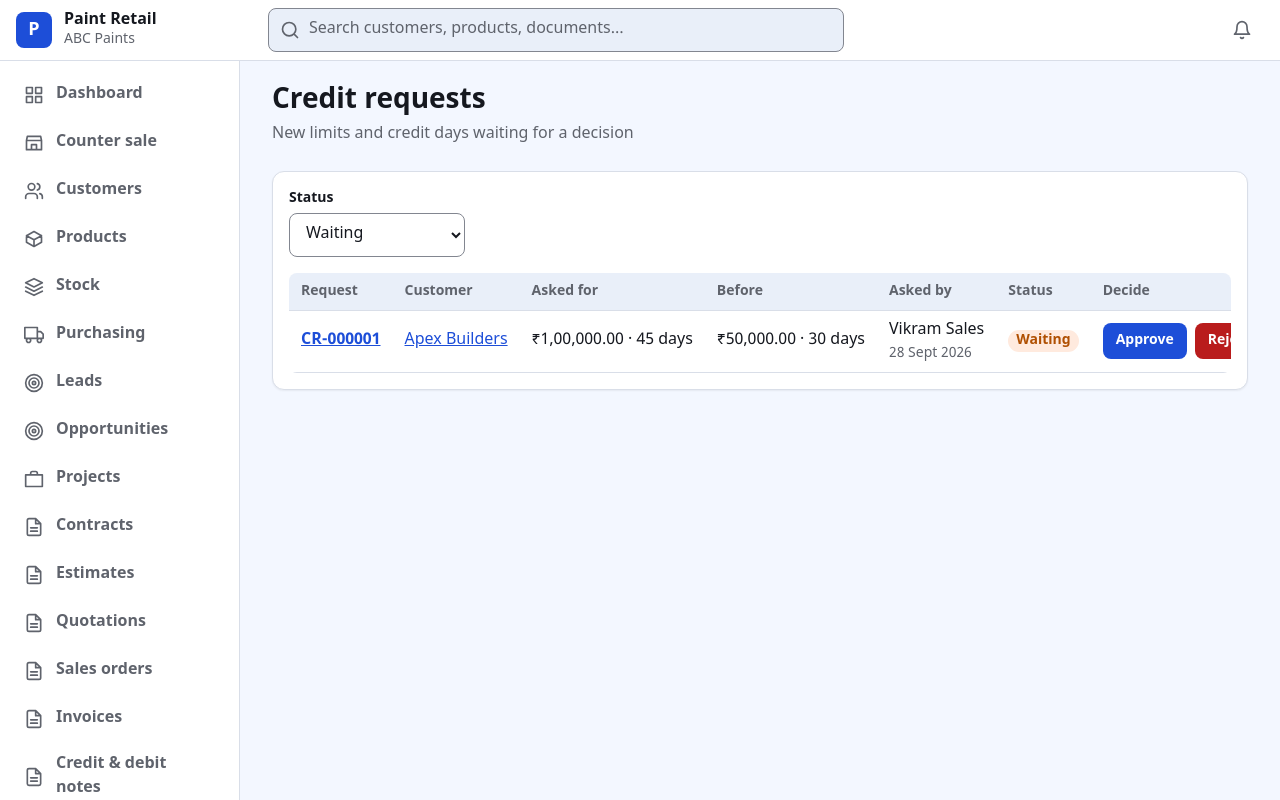
CreditRequestsPage › lists waiting requests for approvers to decide, and other statuses on request
Click the button with aria-label "Approve CR-000001" at (1145,341), box left=1103, top=323, right=1187, bottom=359
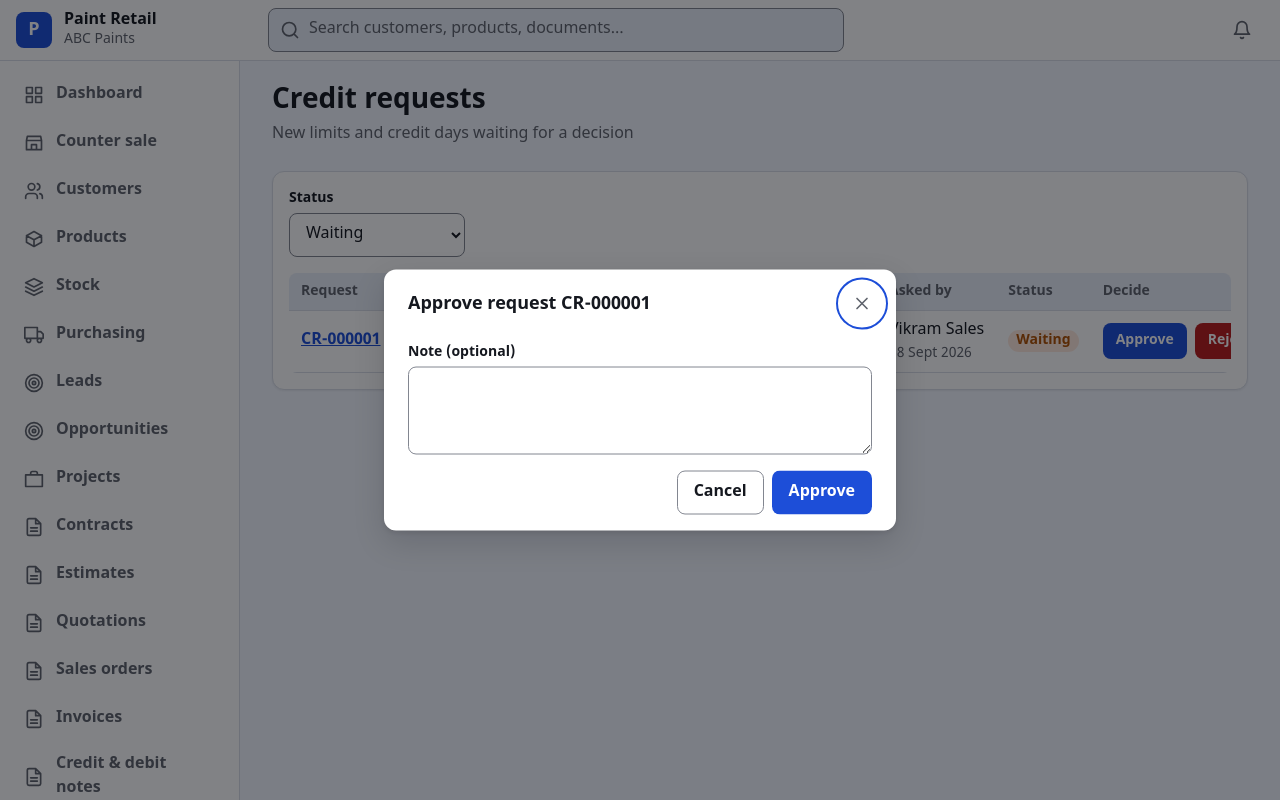
Click the button "Approve" at (822,492), box left=772, top=470, right=872, bottom=514
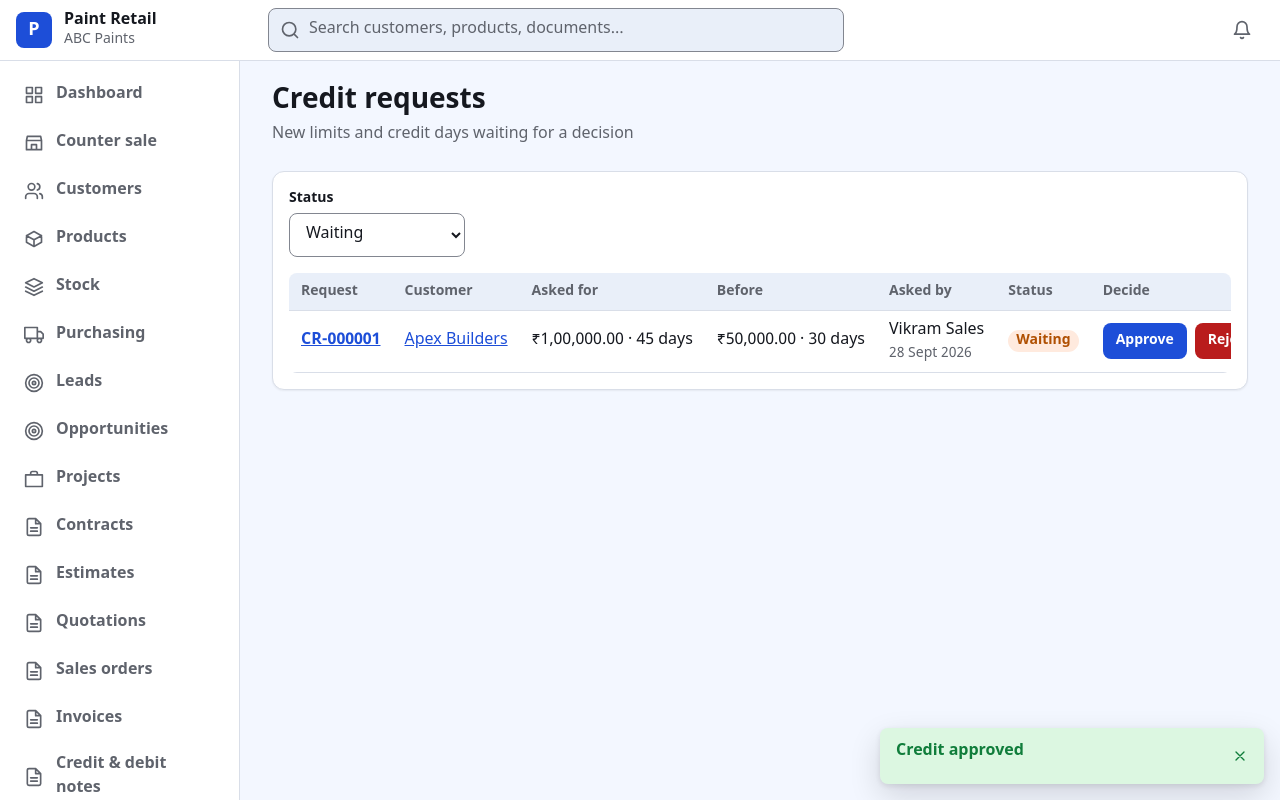
Result: the text "Credit approved" is shown at left=896, top=741, right=1024, bottom=762
Select "All requests" in the dropdown labelled "Status" at (377,235), box left=289, top=213, right=465, bottom=257
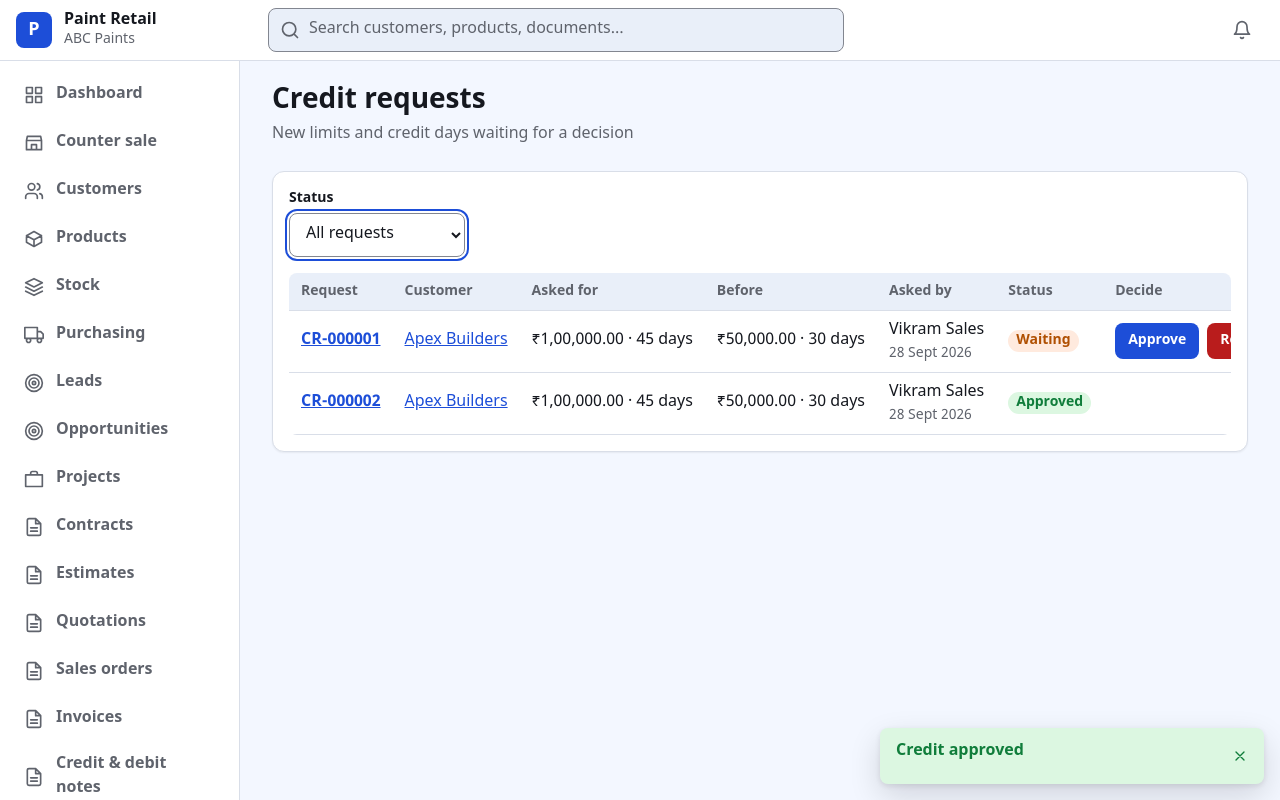
Result: the number of buttons "Approve" is 1 at left=1115, top=323, right=1199, bottom=359
Result: the link "CR-000002" is shown at left=301, top=392, right=380, bottom=413
